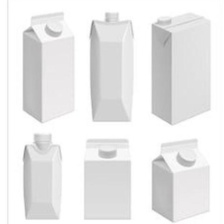carton: (146, 10, 213, 128), (20, 7, 78, 126), (83, 6, 138, 123), (145, 134, 216, 222), (79, 134, 136, 219), (19, 130, 67, 223)
